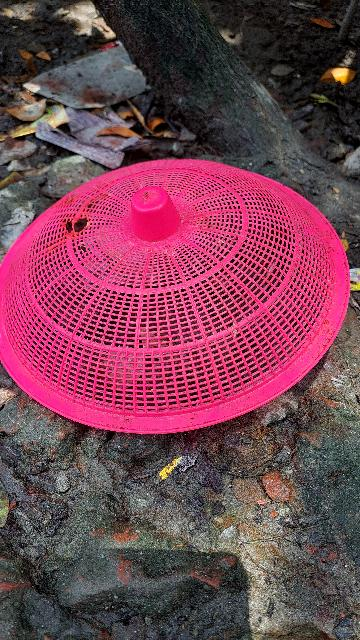hardplastic: (13, 152, 351, 435)
